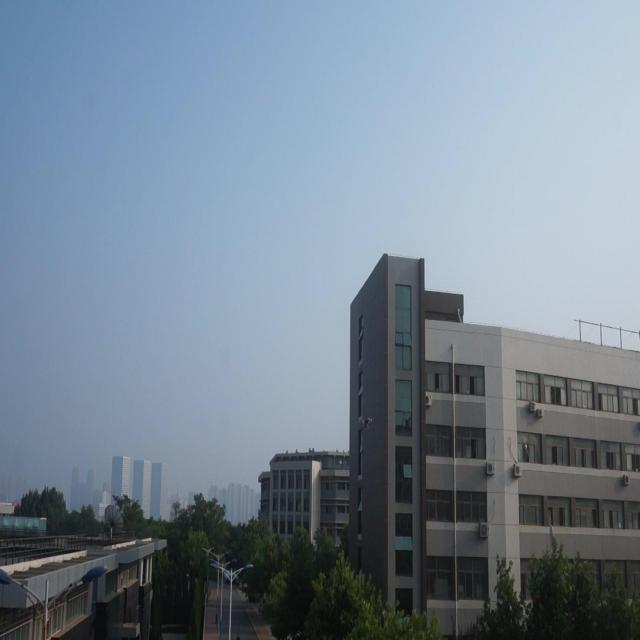UAV: (362, 417, 373, 430)
